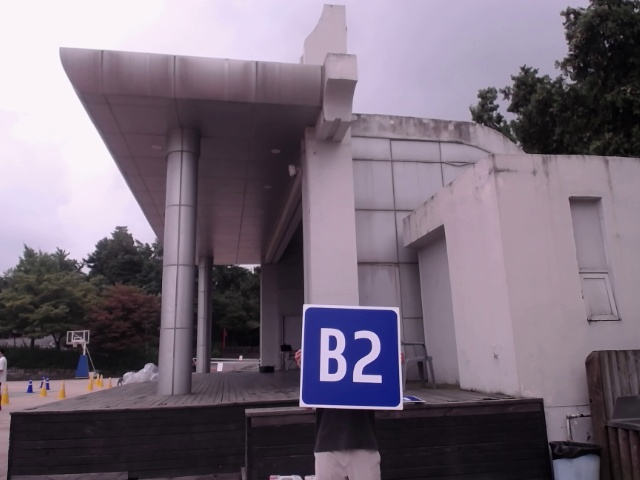delivery_b2: (305, 305, 404, 410)
